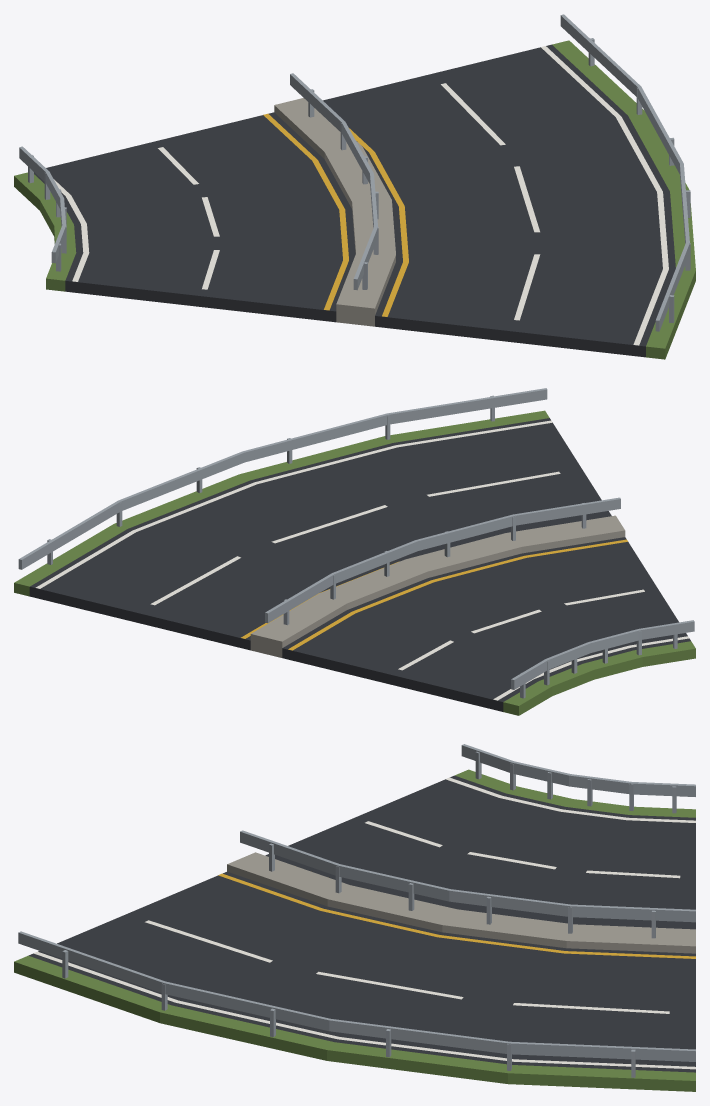
Rendered from Highway_4Lane_Divided_Curve45_R.glb.
3 renders of one model, top to bottom at view 1: azimuth 30°, elevation 25°; view 2: azimuth 150°, elevation 25°; view 3: azimuth 270°, elevation 25°, orthographic. The views are drawn at different scales.
Parts seen in each view (by area): view 1: Highway_4Lane_Divided_Curve45_R_Asphalt, Highway_4Lane_Divided_Curve45_R_Concrete, Highway_4Lane_Divided_Curve45_R_Metal, Highway_4Lane_Divided_Curve45_R_Grass-edge, Highway_4Lane_Divided_Curve45_R_PaintWhite, Highway_4Lane_Divided_Curve45_R_PaintYellow; view 2: Highway_4Lane_Divided_Curve45_R_Asphalt, Highway_4Lane_Divided_Curve45_R_Metal, Highway_4Lane_Divided_Curve45_R_Concrete, Highway_4Lane_Divided_Curve45_R_Grass-edge, Highway_4Lane_Divided_Curve45_R_PaintWhite, Highway_4Lane_Divided_Curve45_R_PaintYellow; view 3: Highway_4Lane_Divided_Curve45_R_Asphalt, Highway_4Lane_Divided_Curve45_R_Metal, Highway_4Lane_Divided_Curve45_R_Grass-edge, Highway_4Lane_Divided_Curve45_R_Concrete, Highway_4Lane_Divided_Curve45_R_PaintWhite, Highway_4Lane_Divided_Curve45_R_PaintYellow.
Part boxes in pixels (box(x1,y1,x2,y2)): Highway_4Lane_Divided_Curve45_R_Asphalt: box(34, 44, 675, 357); Highway_4Lane_Divided_Curve45_R_Concrete: box(274, 98, 395, 326); Highway_4Lane_Divided_Curve45_R_Metal: box(19, 14, 690, 331); Highway_4Lane_Divided_Curve45_R_Grass-edge: box(14, 40, 695, 359); Highway_4Lane_Divided_Curve45_R_PaintWhite: box(54, 46, 668, 345); Highway_4Lane_Divided_Curve45_R_PaintYellow: box(263, 113, 408, 316); Highway_4Lane_Divided_Curve45_R_Asphalt: box(29, 418, 690, 711); Highway_4Lane_Divided_Curve45_R_Metal: box(18, 388, 694, 698); Highway_4Lane_Divided_Curve45_R_Concrete: box(250, 515, 625, 657); Highway_4Lane_Divided_Curve45_R_Grass-edge: box(14, 410, 695, 715); Highway_4Lane_Divided_Curve45_R_PaintWhite: box(35, 420, 688, 700); Highway_4Lane_Divided_Curve45_R_PaintYellow: box(241, 539, 627, 650); Highway_4Lane_Divided_Curve45_R_Asphalt: box(28, 775, 695, 1072); Highway_4Lane_Divided_Curve45_R_Metal: box(18, 744, 695, 1077); Highway_4Lane_Divided_Curve45_R_Grass-edge: box(14, 769, 695, 1091); Highway_4Lane_Divided_Curve45_R_Concrete: box(227, 852, 695, 953); Highway_4Lane_Divided_Curve45_R_PaintWhite: box(33, 777, 695, 1069); Highway_4Lane_Divided_Curve45_R_PaintYellow: box(218, 873, 695, 958).
Size of the model in its own units: 18.34 by 1.25 by 16.97.
